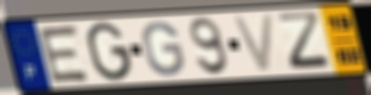9: (187, 15, 232, 78)
E: (36, 23, 94, 85)
G: (85, 20, 135, 83), (140, 19, 187, 78)
V: (229, 12, 277, 75)
Z: (274, 9, 336, 72)
